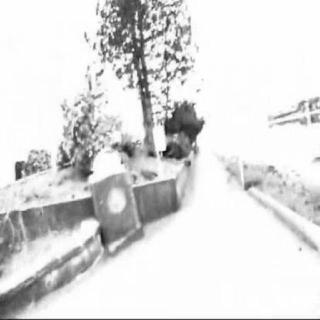other: (200, 148, 228, 242)
